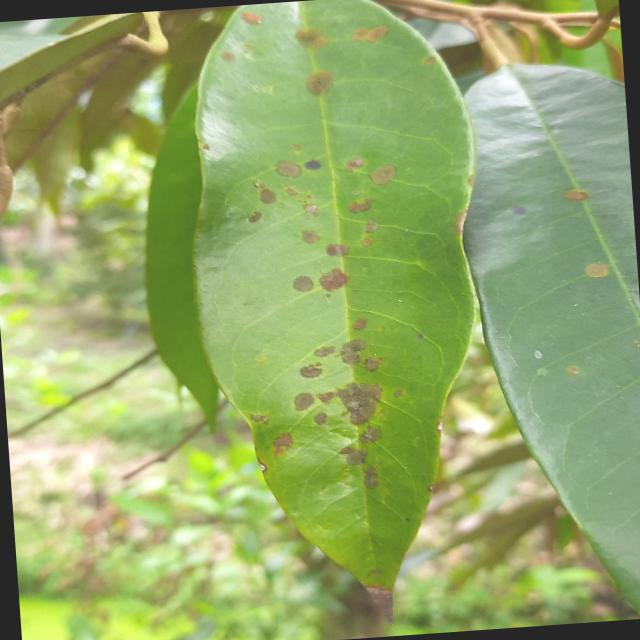Algal Leaf Spot: (164, 0, 512, 639)
